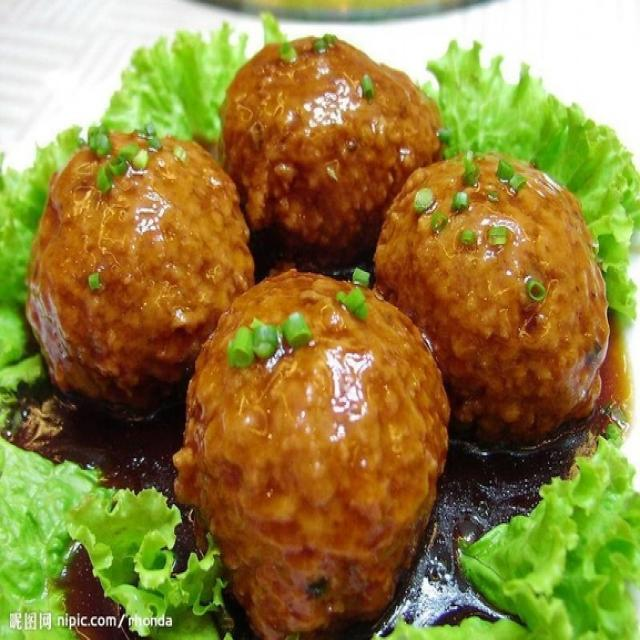Meatball: (172, 260, 457, 636), (366, 139, 622, 458), (20, 116, 267, 416), (206, 18, 455, 269)
